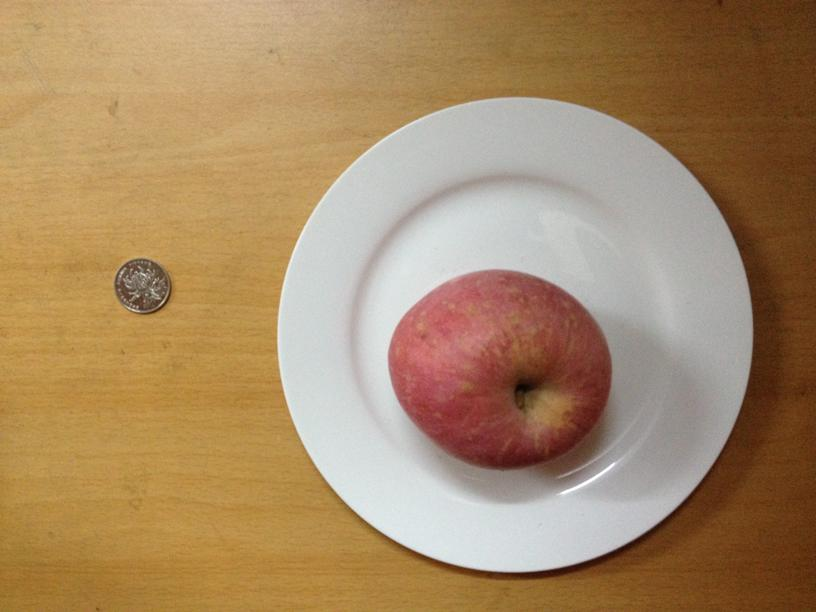apple: (390, 263, 611, 466)
coin: (113, 256, 171, 314)
